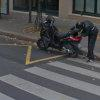Motorcycle: (33, 9, 87, 58)
